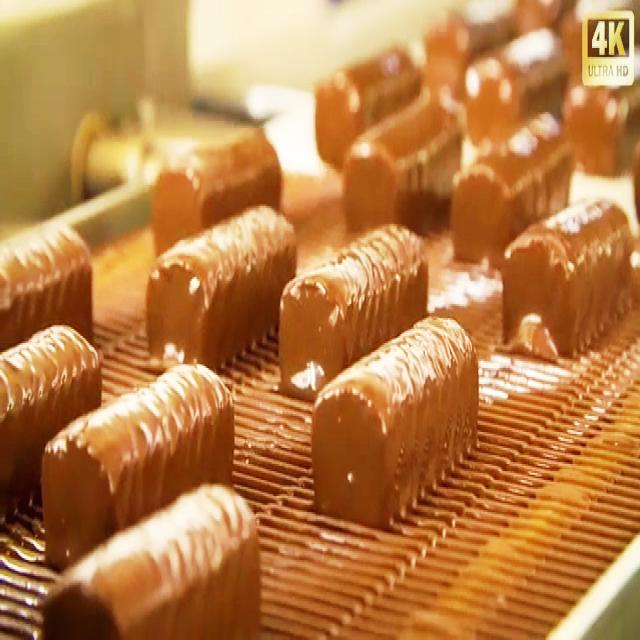Choco: (40, 359, 235, 565), (309, 309, 480, 526), (39, 478, 262, 635), (277, 219, 429, 398), (144, 199, 297, 368), (499, 190, 634, 359), (340, 90, 466, 243), (150, 122, 282, 252), (2, 320, 104, 485), (452, 110, 572, 246), (314, 39, 424, 152), (465, 28, 571, 144), (2, 215, 96, 335)
